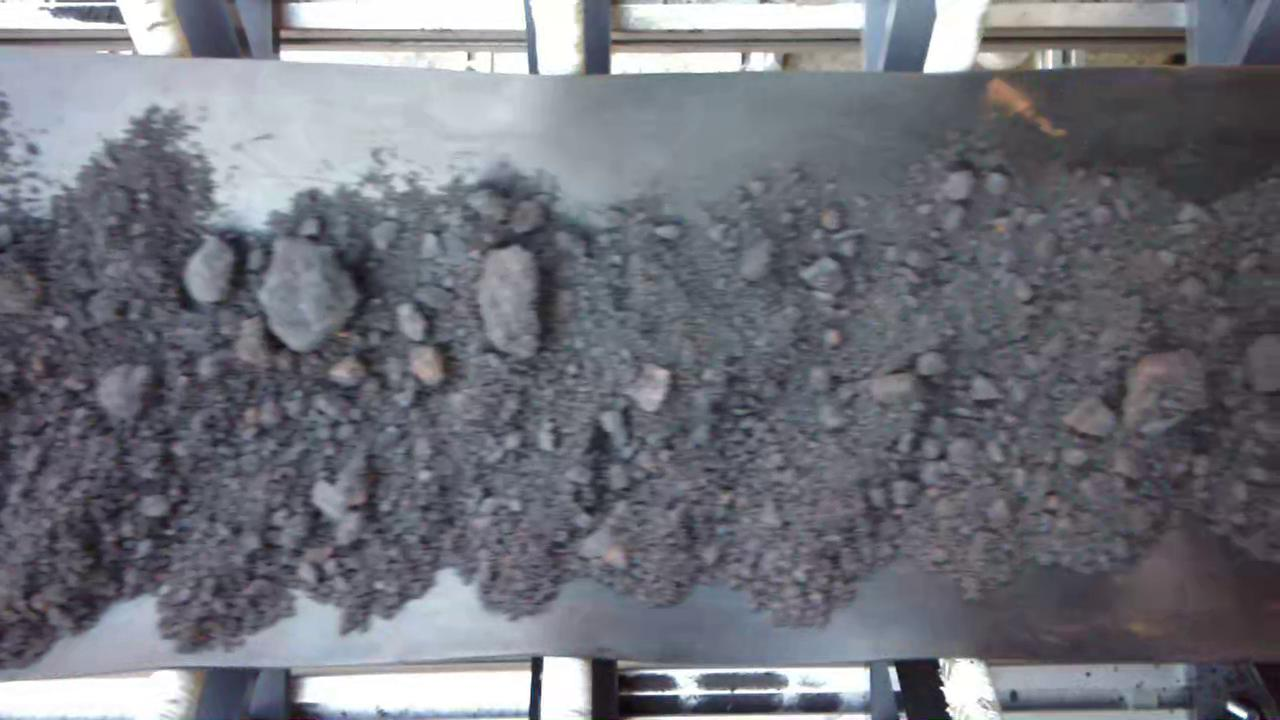conveyor: (9, 76, 1280, 660)
